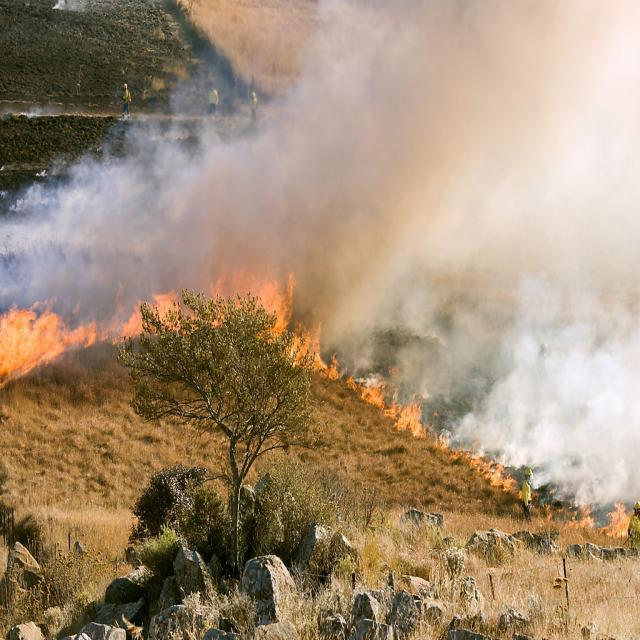Fire: (248, 272, 343, 379), (0, 308, 96, 383), (346, 377, 429, 437), (530, 487, 597, 530), (455, 450, 518, 492), (112, 302, 142, 344), (601, 502, 634, 540), (214, 274, 253, 294), (152, 290, 178, 316), (439, 431, 450, 448)
Smoke: (347, 0, 640, 366), (7, 2, 342, 298), (443, 370, 640, 484)
